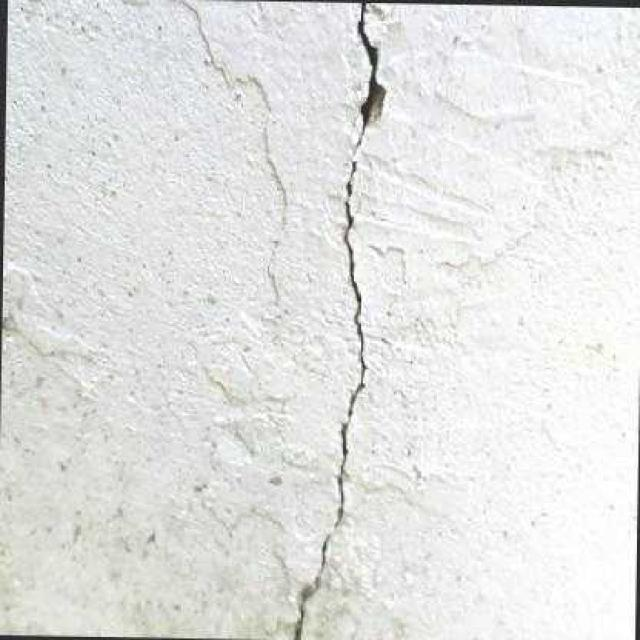D00: (292, 1, 378, 640)
